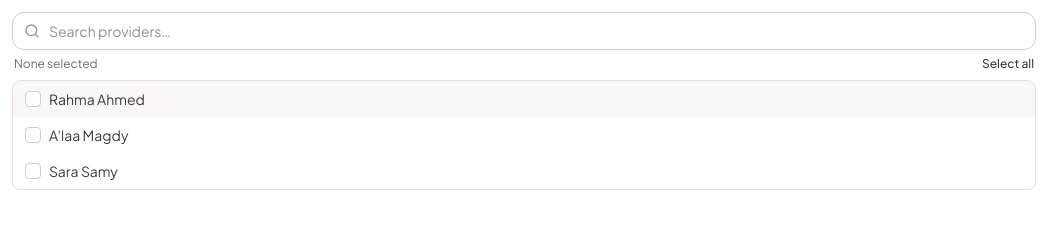
Test: EntityPicker — multiple mode › allows more than one item selected at once, unlike single-select mode
The width and height of the screenshot is (1048, 239).
What coordinates should you click on to do the following:
click the option "Rahma Ahmed"
I would click on:
 (97, 99)
Its box is [13,81,1035,117].
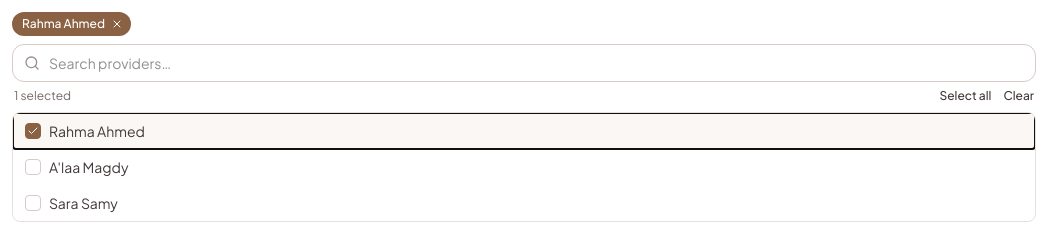
What coordinates should you click on to do the following:
click the option "A'laa Magdy"
I would click on:
 (89, 167)
Its box is [13,149,1035,185].
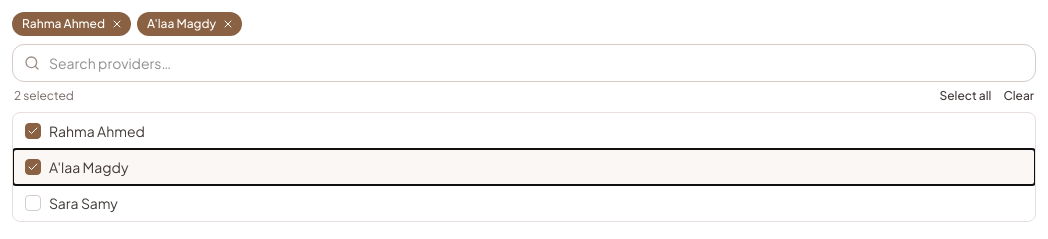
Expected: the text "2 selected" is shown, [14,88,74,104]
